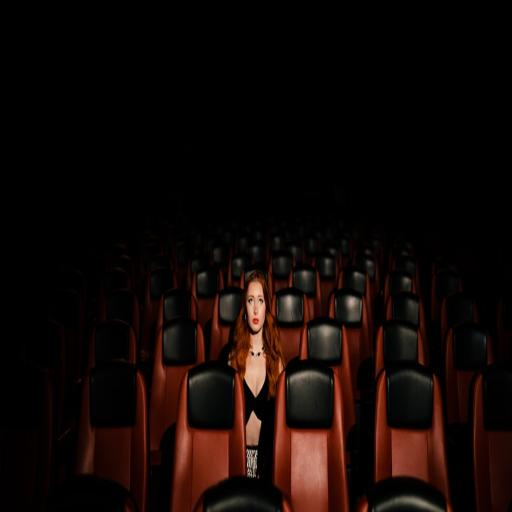face: (246, 281, 265, 332)
